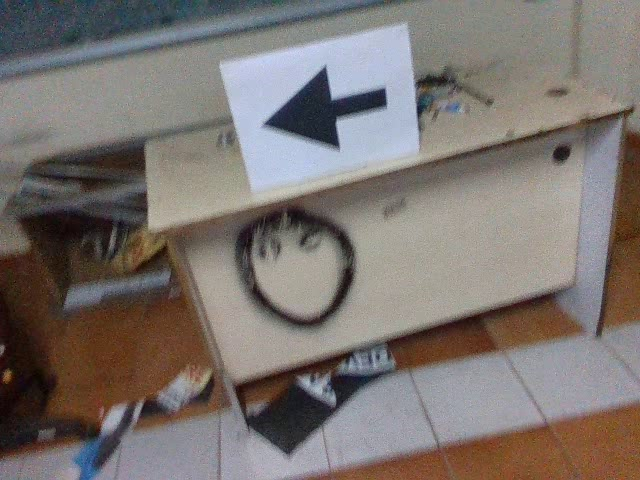Left: (258, 59, 391, 156)
